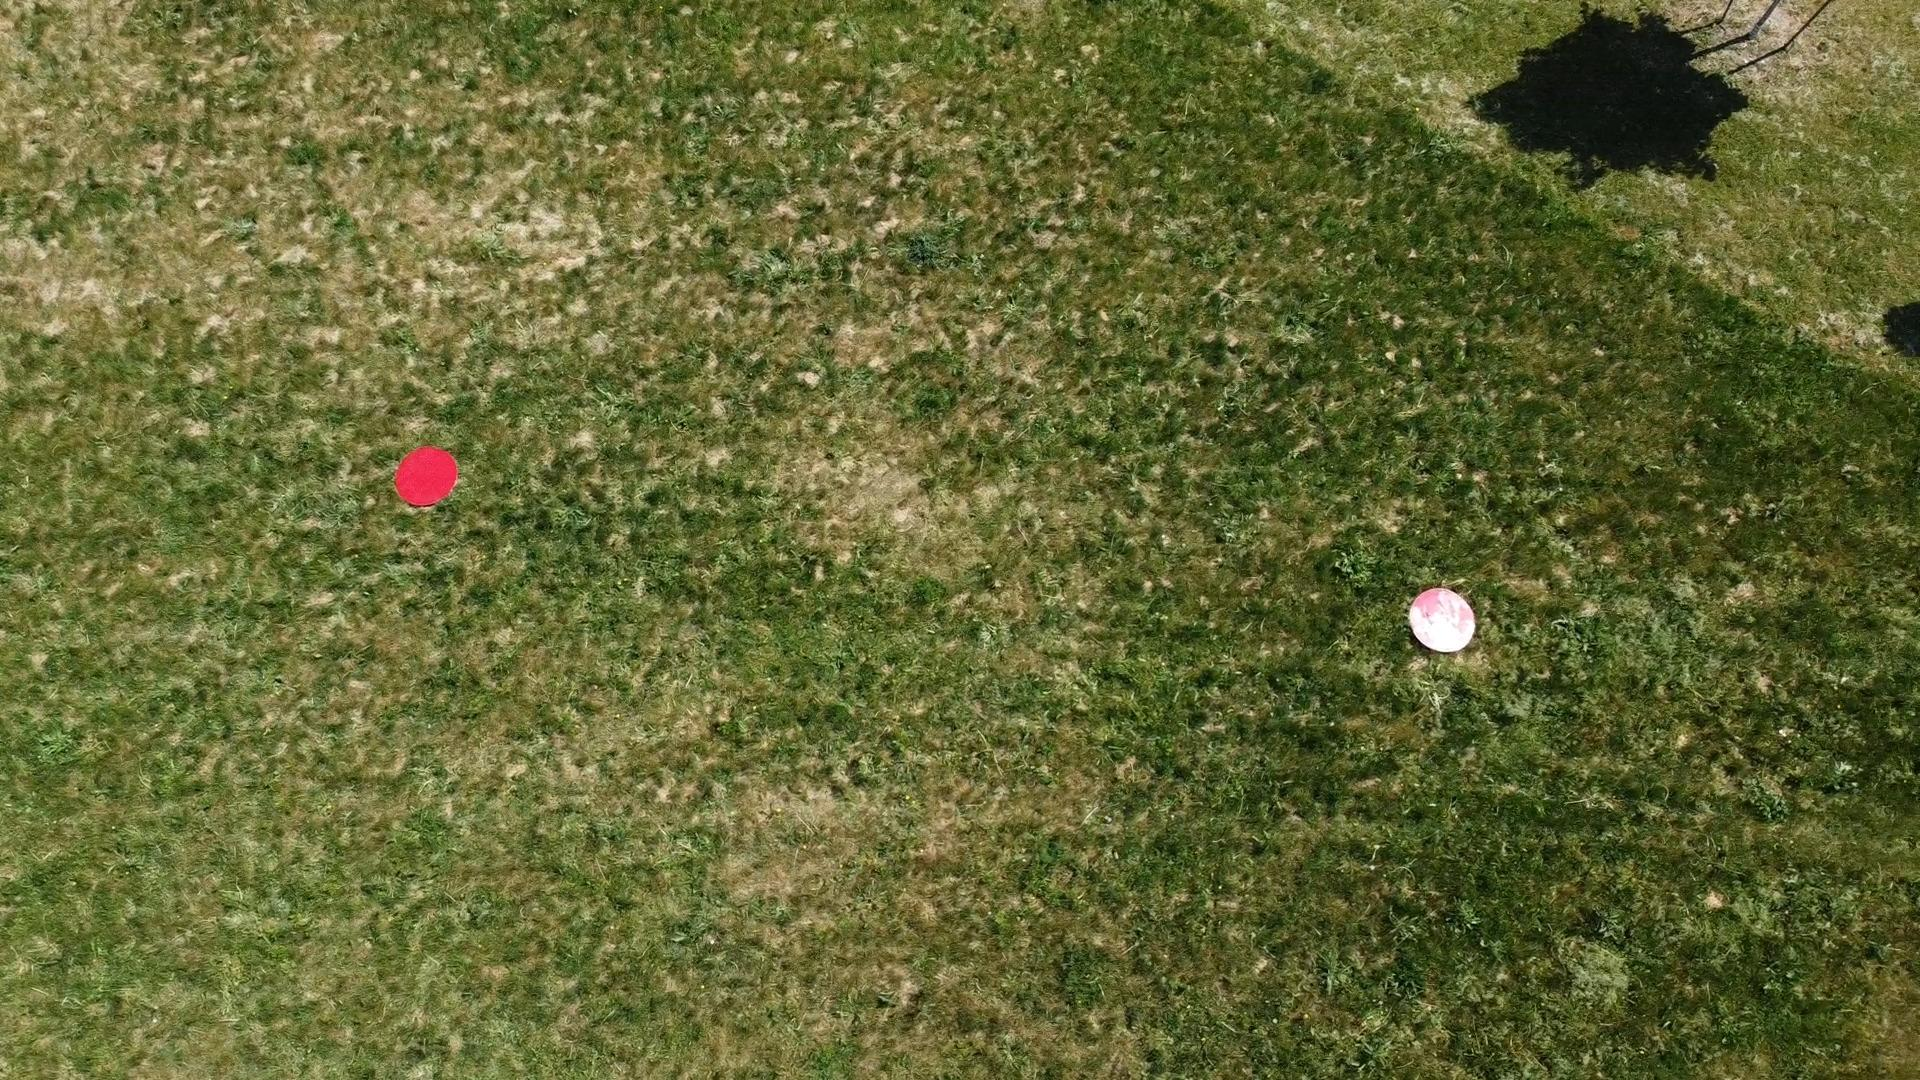Red: (1404, 585, 1481, 657), (392, 444, 463, 510)
